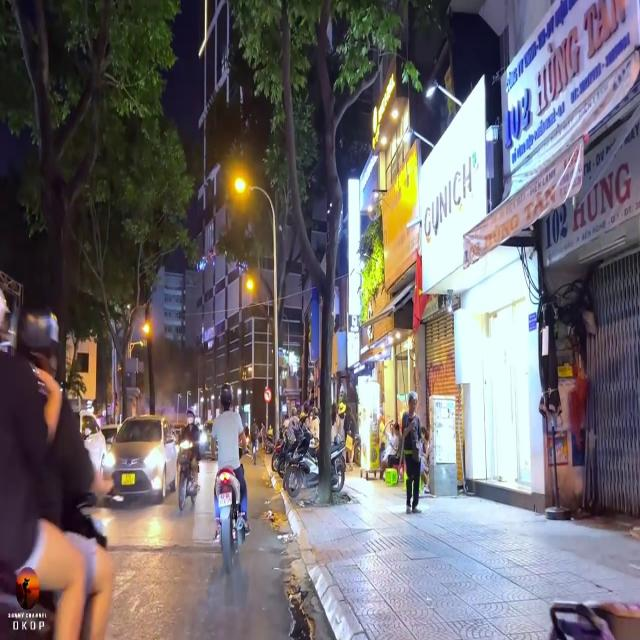bien_vang: (120, 470, 135, 491)
